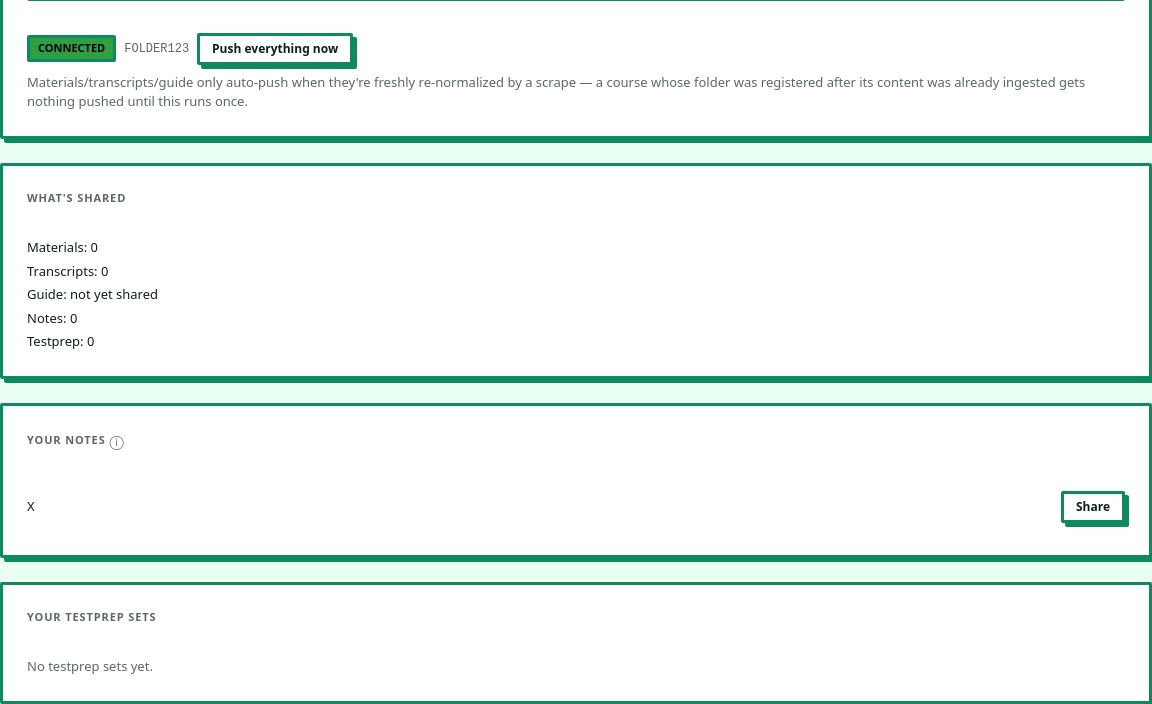
Test: a failed share shows the error, not a silent no-op
(page scrolled)
Click the button "Share": [1093, 506] box [1061,490,1125,522]
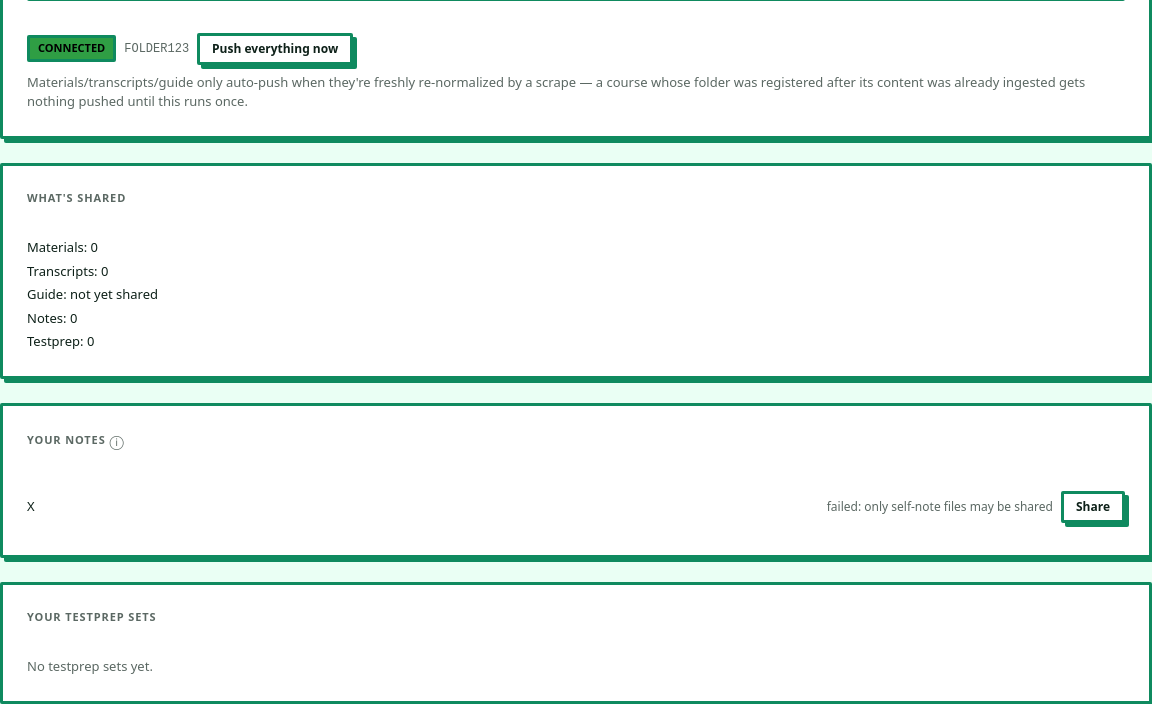
Check: the text "failed: only self-note files may be shared" is shown, box [827,498,1053,516]
